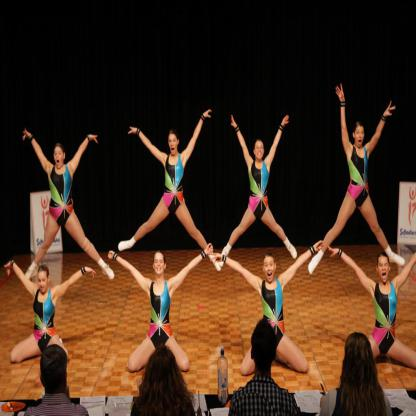face: (379, 258, 390, 284), (265, 257, 275, 283), (39, 272, 49, 293), (155, 254, 165, 274), (55, 147, 64, 169), (356, 127, 365, 148), (169, 136, 178, 156), (256, 143, 265, 160)
